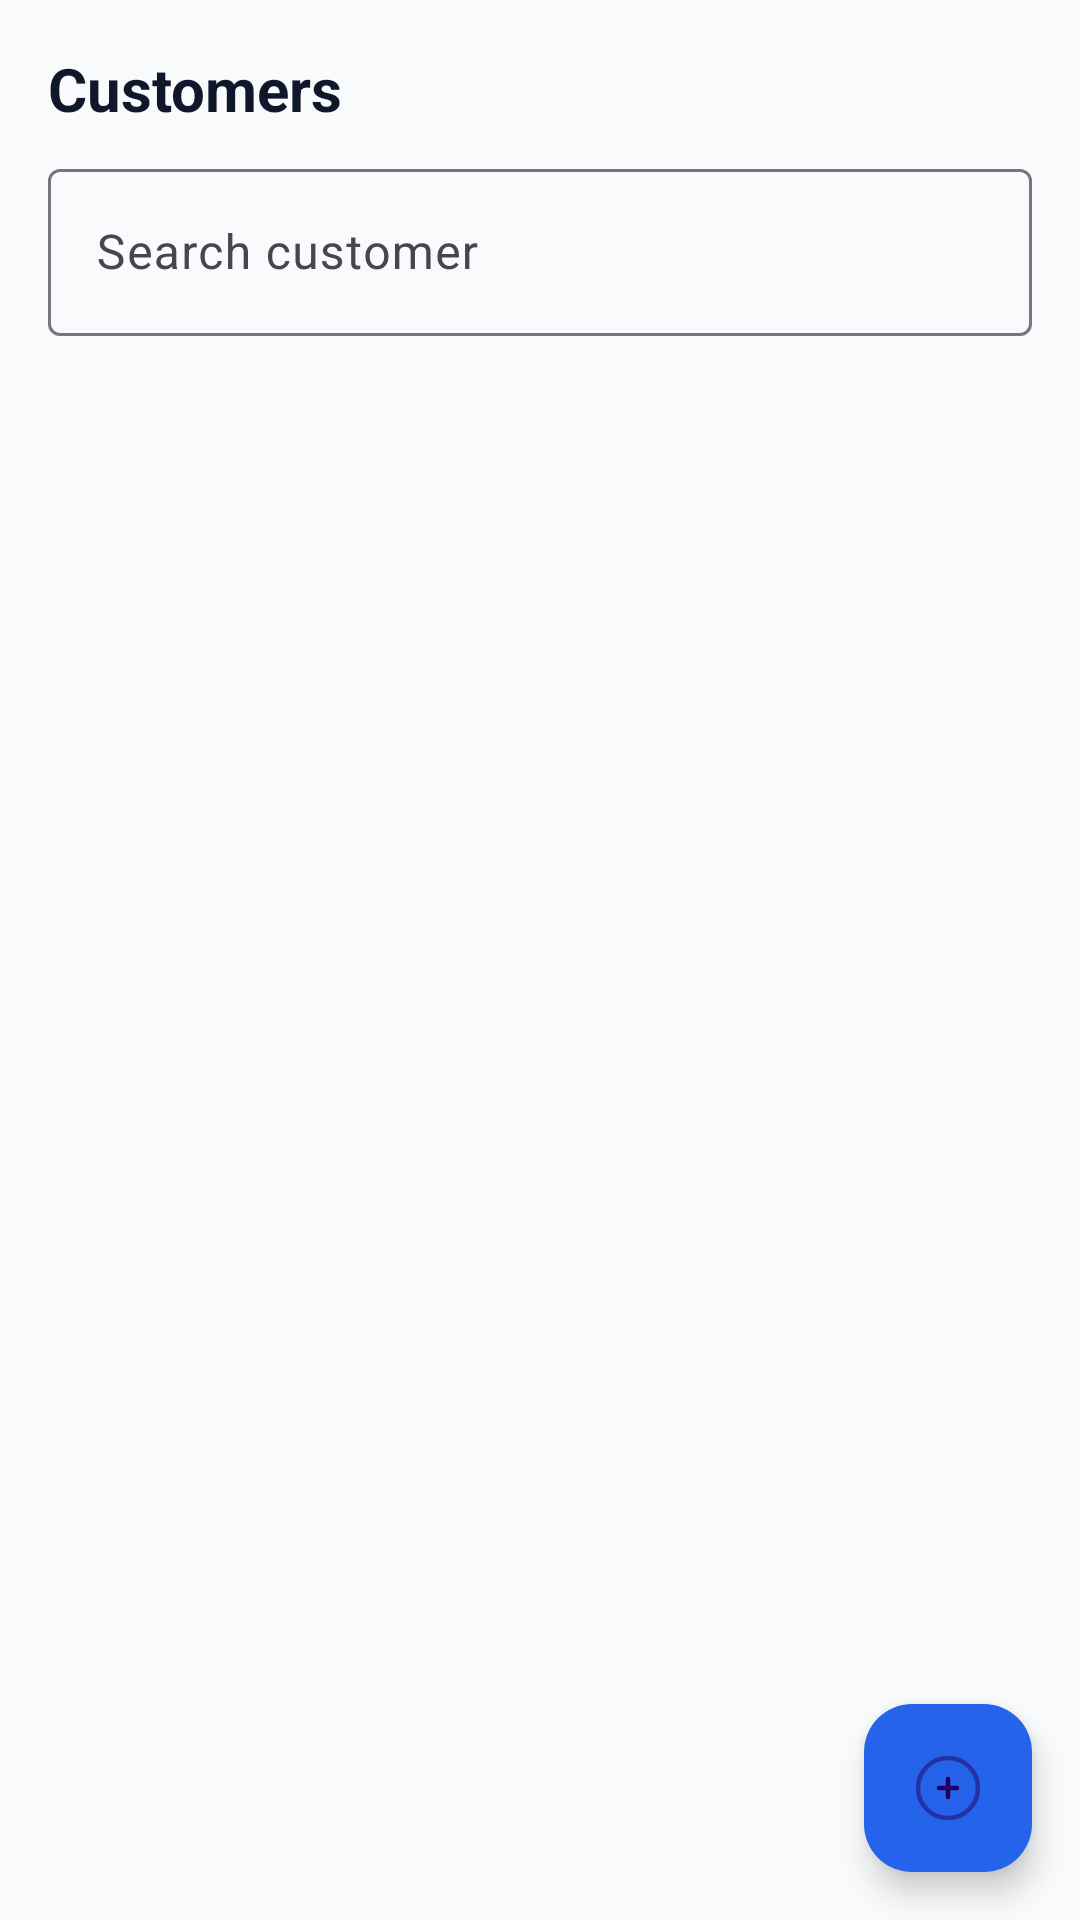

Where icons sit on this 1080x1920 app screen, as (x1, y1, x2, y2):
Add Customer: (864, 1704, 1032, 1872)
